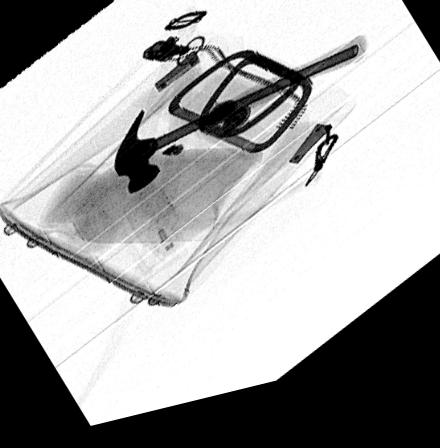Hammer: (113, 51, 368, 203)
